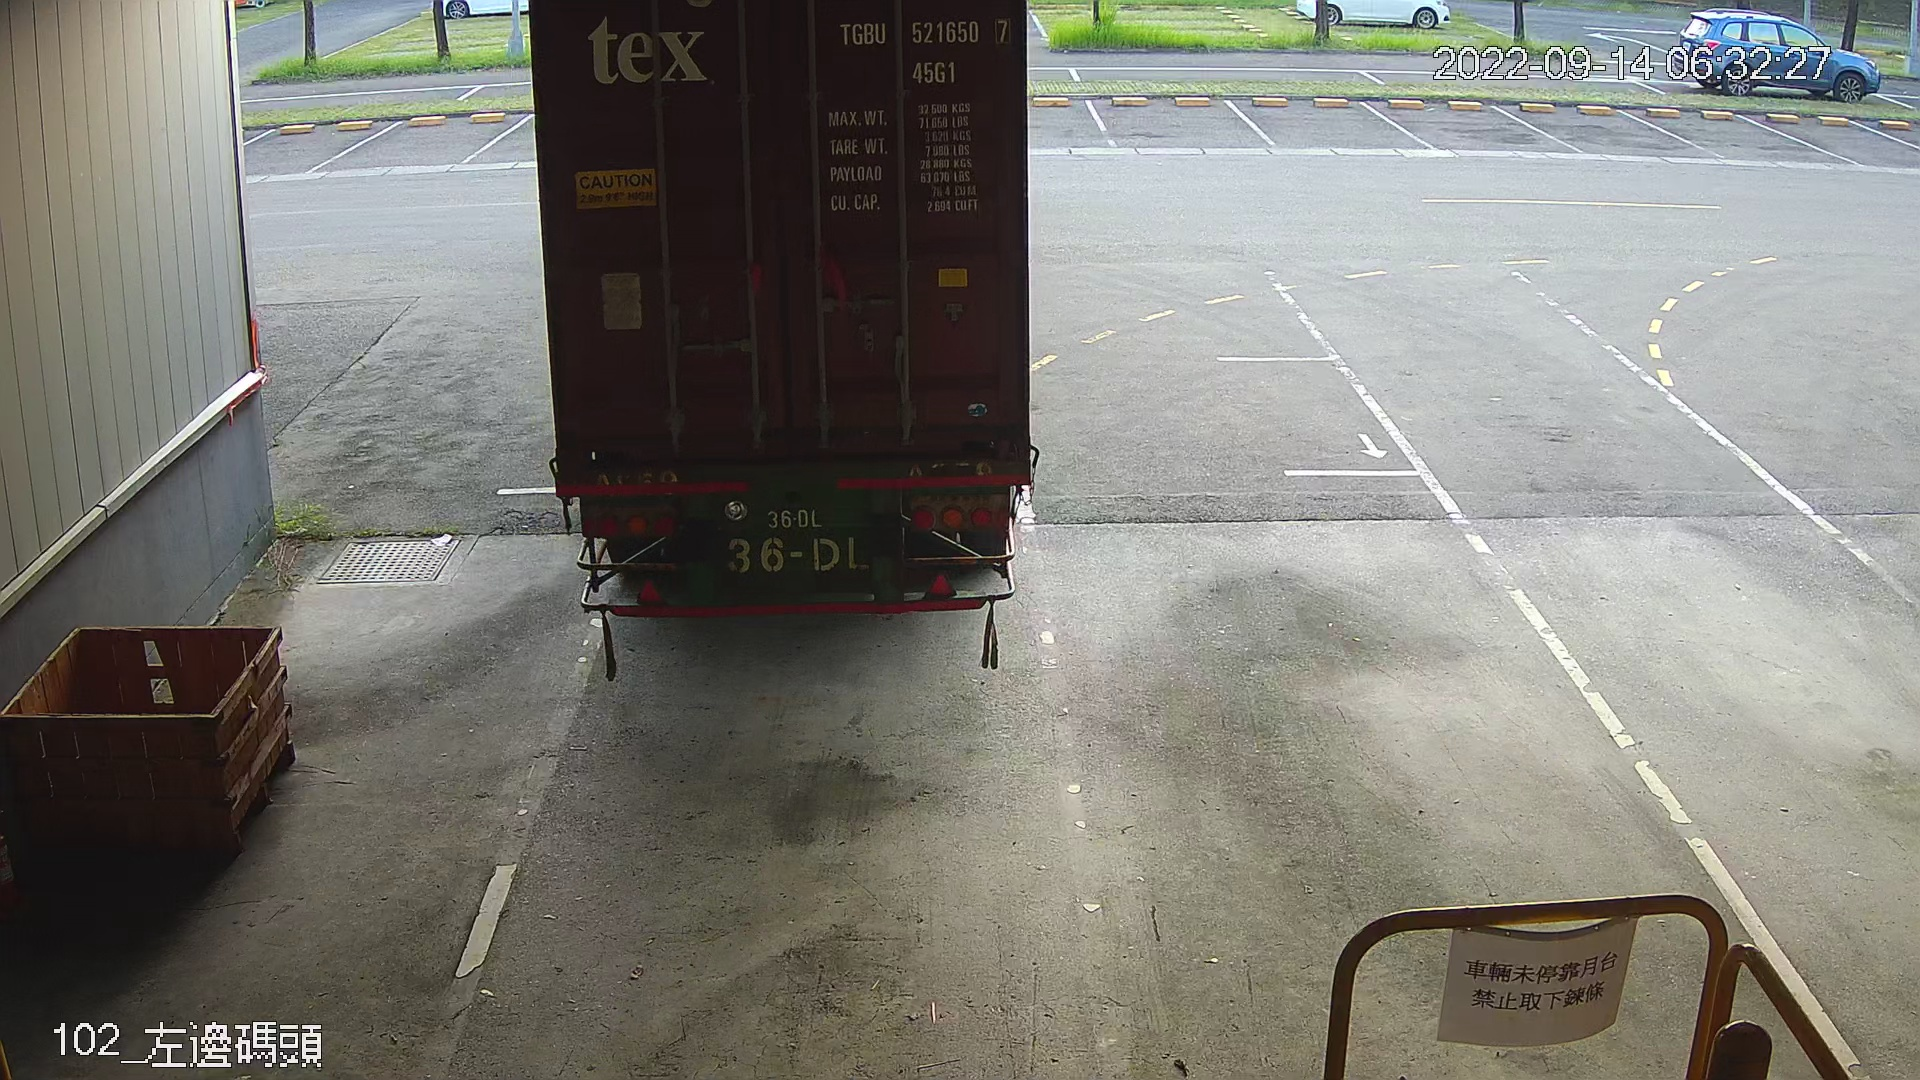container: (833, 8, 1017, 92)
